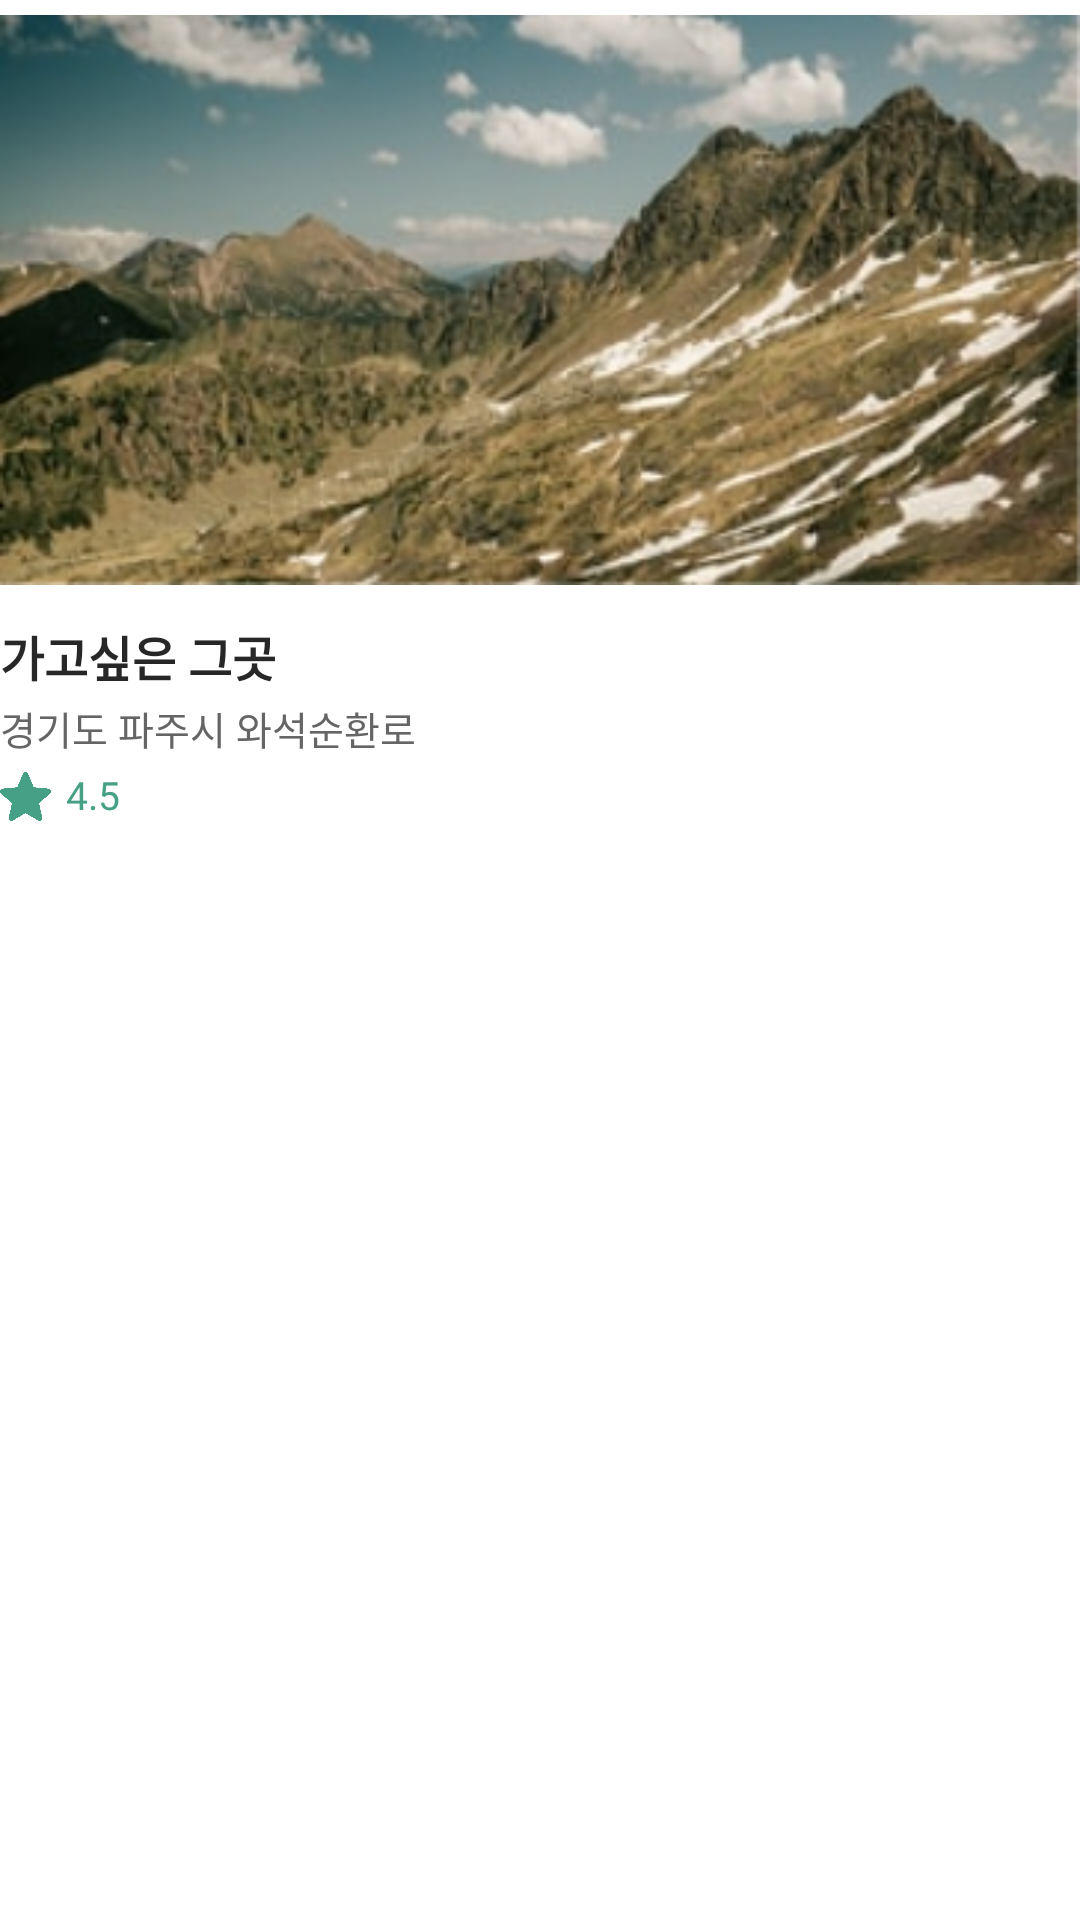

Icon bounding boxes for this 1080 × 1920 phone screenshot, format (x1, y1, x2, y2):
star: (0, 772, 51, 821)
